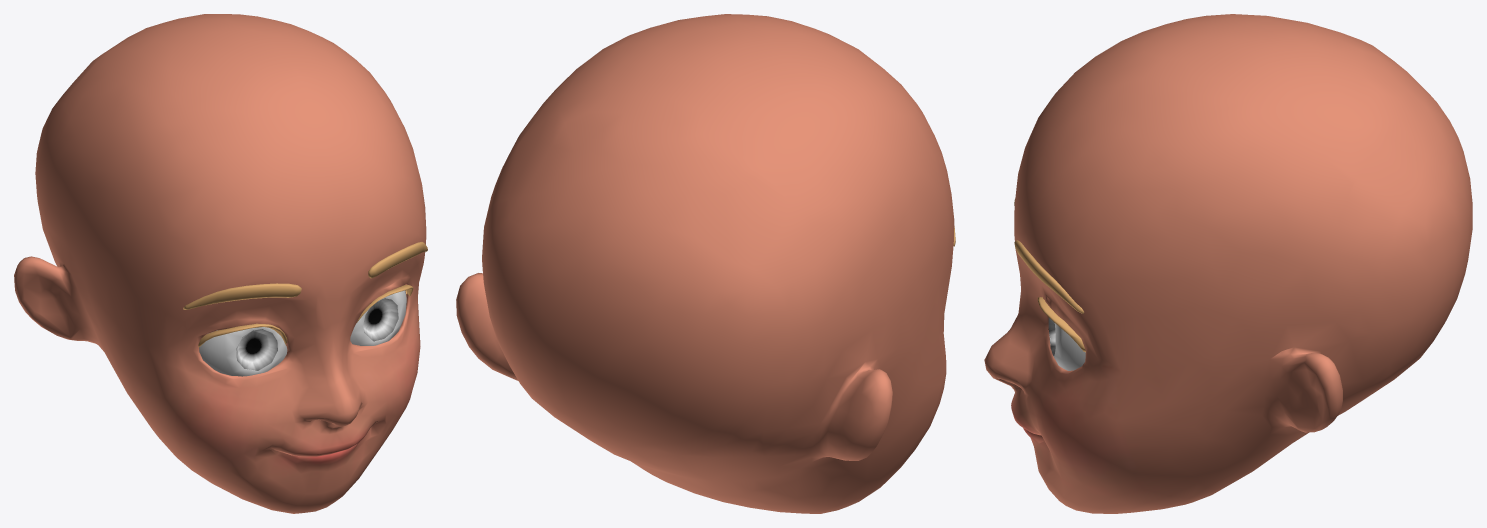
3 views of the same model, side by side, from view 1: azimuth 30°, elevation 25°; view 2: azimuth 150°, elevation 25°; view 3: azimuth 270°, elevation 25° (orthographic). The views are drawn at different scales.
Parts seen in each view (by area): view 1: skin.001, eyes.001, brows.001, lashes.001; view 2: skin.001; view 3: skin.001, eyes.001, brows.001.
Part boxes in pixels (bbox=[...]): skin.001: bbox=[14, 14, 426, 513]; eyes.001: bbox=[199, 290, 406, 376]; brows.001: bbox=[183, 242, 427, 309]; lashes.001: bbox=[198, 285, 413, 347]; skin.001: bbox=[456, 14, 954, 513]; skin.001: bbox=[984, 14, 1472, 513]; eyes.001: bbox=[1048, 317, 1085, 370]; brows.001: bbox=[1014, 199, 1084, 313].
Bounding box in the file's own units: 1.79 × 2 × 1.9.
9 materials, 2 textured.
